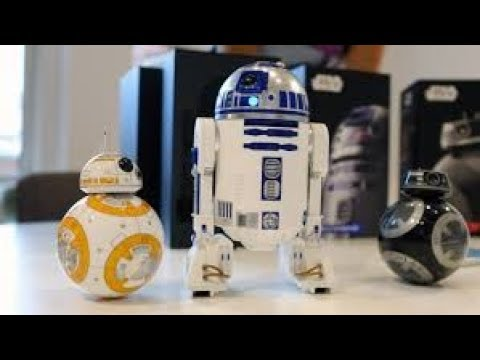r2d2: (189, 61, 333, 295)
